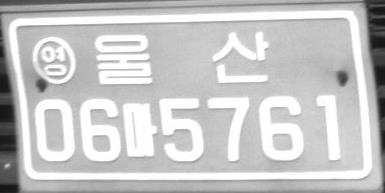0: (33, 98, 75, 162)
1: (309, 94, 350, 161)
5: (158, 97, 204, 162)
6: (257, 95, 305, 161), (79, 97, 122, 163)
7: (206, 95, 250, 162)
마: (122, 102, 157, 157)
영: (31, 35, 76, 85)
울산_D: (94, 31, 268, 84)
